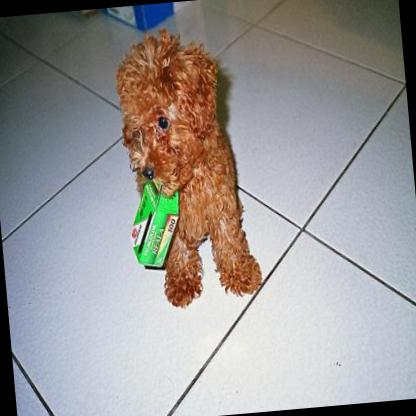toy_poodle: (99, 19, 269, 314)
